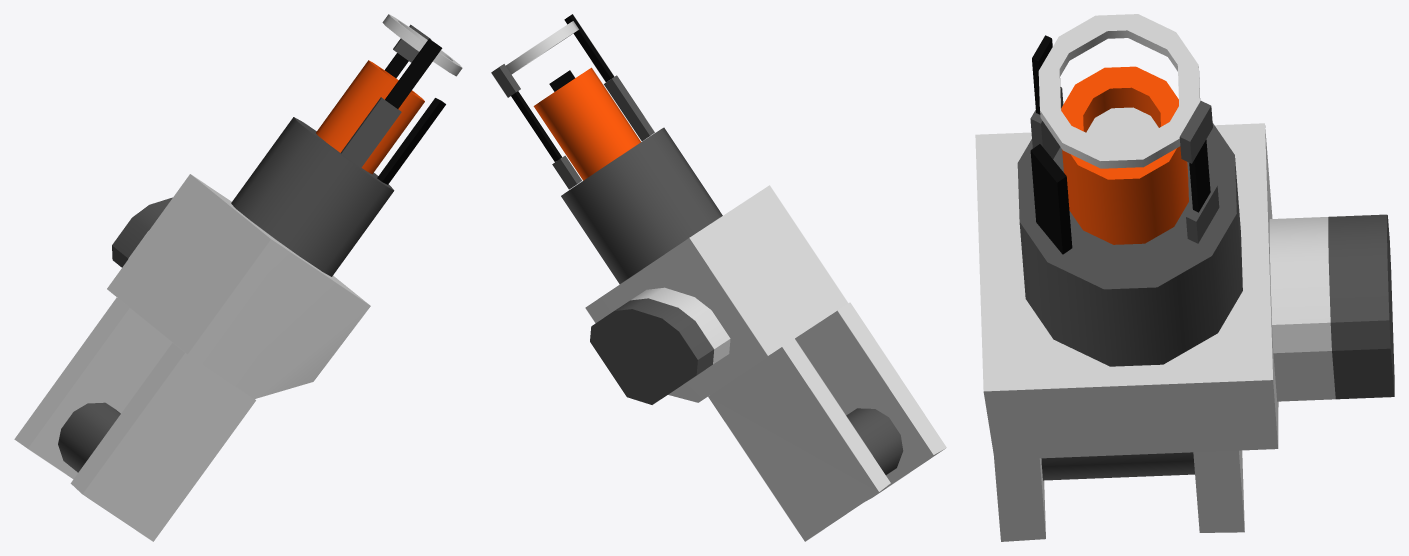
File: pinza.obj
3 renders of one model, left to right at view 1: azimuth 30°, elevation 25°; view 2: azimuth 150°, elevation 25°; view 3: azimuth 270°, elevation 25°, orthographic. The views are drawn at different scales.
Parts seen in each view (by area): view 1: Garra.001_SpacialRoverExploreralumWhite, Garra.001_SpacialRoverExploreralumGray, Garra.001_SpacialRoverExploreralumOrange, Garra.001_SpacialRoverExploreralumBlack; view 2: Garra.001_SpacialRoverExploreralumWhite, Garra.001_SpacialRoverExploreralumGray, Garra.001_SpacialRoverExploreralumOrange, Garra.001_SpacialRoverExploreralumBlack; view 3: Garra.001_SpacialRoverExploreralumWhite, Garra.001_SpacialRoverExploreralumGray, Garra.001_SpacialRoverExploreralumOrange, Garra.001_SpacialRoverExploreralumBlack.
Part boxes in pixels (bbox=[...]): Garra.001_SpacialRoverExploreralumWhite: bbox=[14, 14, 462, 541]; Garra.001_SpacialRoverExploreralumGray: bbox=[58, 24, 431, 472]; Garra.001_SpacialRoverExploreralumOrange: bbox=[316, 60, 424, 174]; Garra.001_SpacialRoverExploreralumBlack: bbox=[377, 38, 445, 184]; Garra.001_SpacialRoverExploreralumWhite: bbox=[506, 21, 946, 541]; Garra.001_SpacialRoverExploreralumGray: bbox=[491, 64, 903, 474]; Garra.001_SpacialRoverExploreralumOrange: bbox=[533, 67, 640, 180]; Garra.001_SpacialRoverExploreralumBlack: bbox=[511, 14, 614, 161]; Garra.001_SpacialRoverExploreralumWhite: bbox=[975, 14, 1335, 541]; Garra.001_SpacialRoverExploreralumGray: bbox=[1017, 87, 1394, 480]; Garra.001_SpacialRoverExploreralumOrange: bbox=[1061, 66, 1188, 244]; Garra.001_SpacialRoverExploreralumBlack: bbox=[1030, 35, 1210, 254].
Bounding box in the file's own units: 1.13 × 1.14 × 0.5634.
